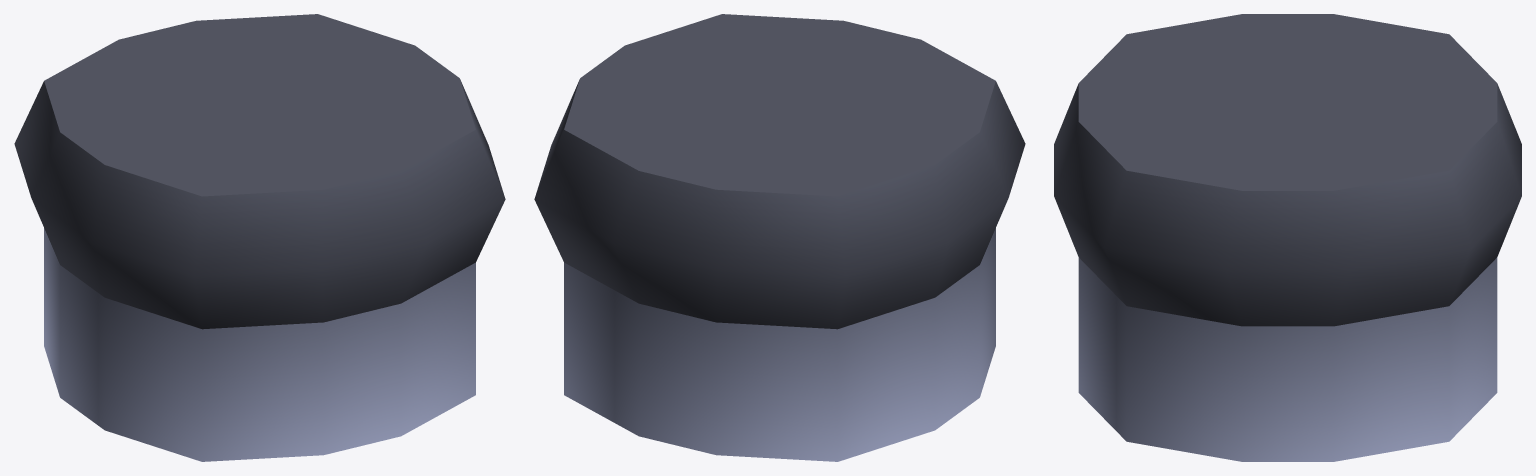
Rendered from block-snow-low-narrow.glb.
3 renders of one model, left to right at view 1: azimuth 30°, elevation 25°; view 2: azimuth 150°, elevation 25°; view 3: azimuth 270°, elevation 25°, orthographic. The views are drawn at different scales.
Parts seen in each view (by area): view 1: block-snow-low-narrow; view 2: block-snow-low-narrow; view 3: block-snow-low-narrow.
Boxes of the visible parts, x1,y1,x2,y2 form: block-snow-low-narrow: (14, 14, 505, 461); block-snow-low-narrow: (534, 14, 1025, 461); block-snow-low-narrow: (1054, 14, 1521, 461).
Size of the model in its own units: 0.7821 by 0.5 by 0.7821.
